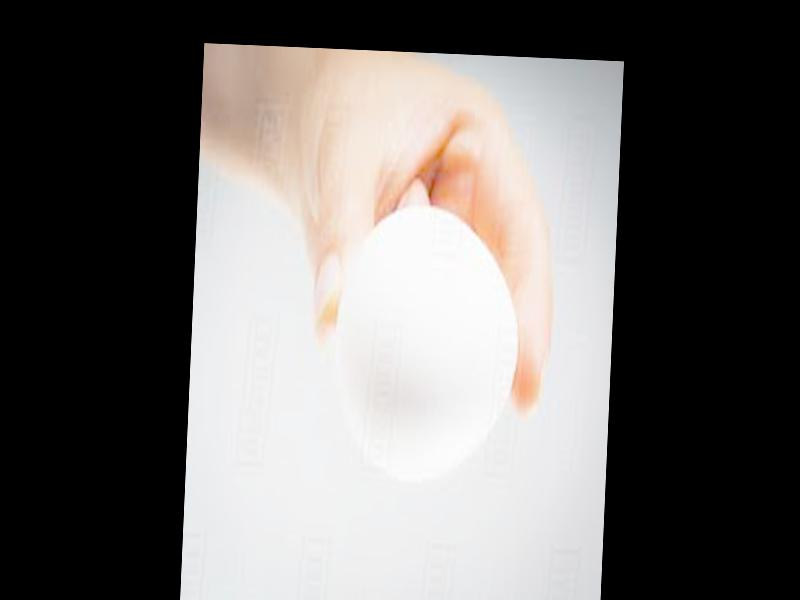Eggs: (330, 214, 524, 482)
